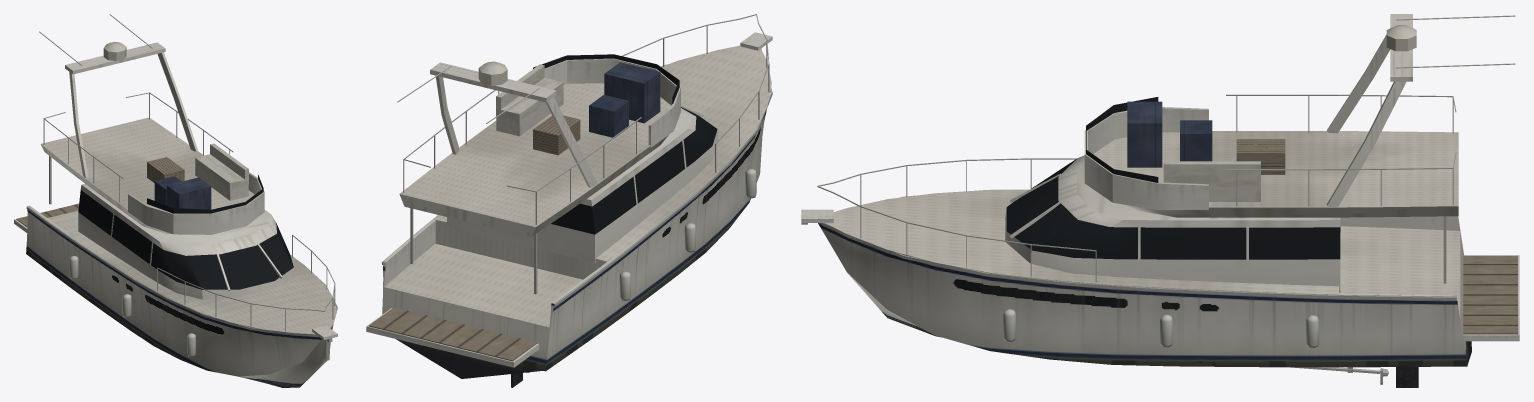
File: motorYacht-a-lod1.glb
3 views of the same model, side by side, from view 1: azimuth 30°, elevation 25°; view 2: azimuth 150°, elevation 25°; view 3: azimuth 270°, elevation 25° (orthographic). The views are drawn at different scales.
Parts seen in each view (by area): view 1: Superstructure, Hull, Gear; view 2: Hull, Superstructure, Gear; view 3: Hull, Superstructure, Gear.
Part boxes in pixels (<box>): Superstructure: <box>39,14,294,299</box>; Hull: <box>14,203,337,387</box>; Gear: <box>43,92,335,356</box>; Hull: <box>366,32,772,387</box>; Superstructure: <box>397,54,718,262</box>; Gear: <box>403,14,769,300</box>; Hull: <box>801,189,1519,387</box>; Superstructure: <box>1005,14,1515,290</box>; Gear: <box>817,94,1456,347</box>.
Size of the model in its own units: 4.59 by 7.07 by 13.28.
1 material, 1 textured.
